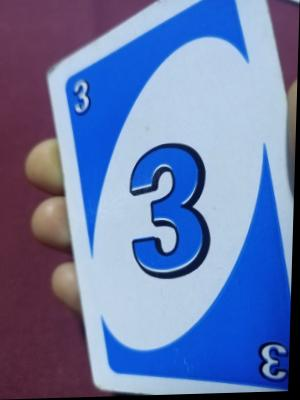blue: (83, 52, 283, 371)
num_3: (69, 76, 96, 118)
